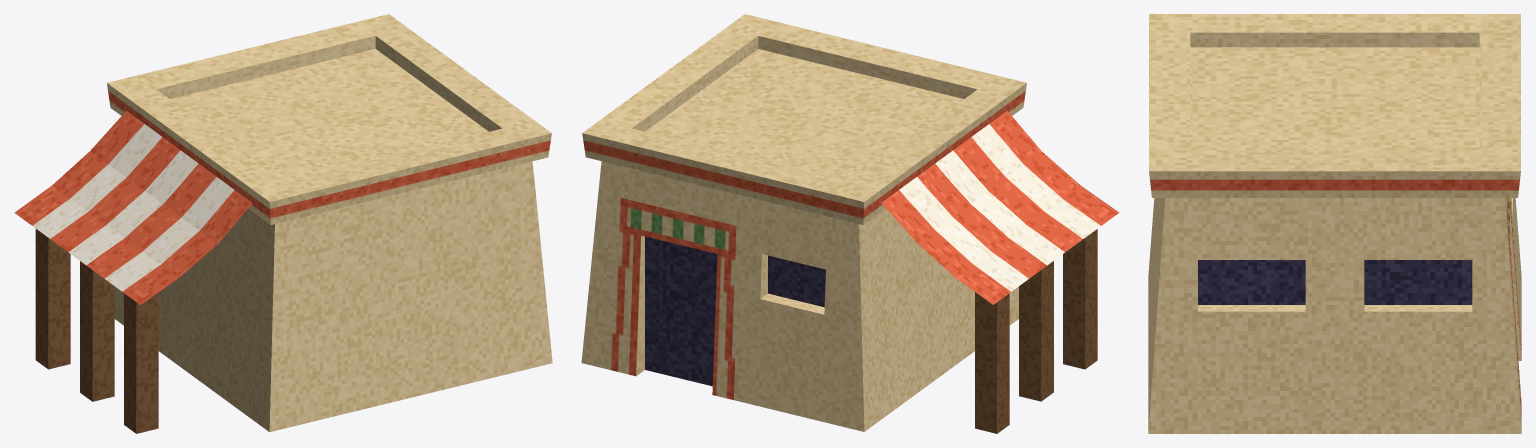
File: CasaEgiptoModeloAVer1.fbx
3 renders of one model, left to right at view 1: azimuth 30°, elevation 25°; view 2: azimuth 150°, elevation 25°; view 3: azimuth 270°, elevation 25°, orthographic. The views are drawn at different scales.
Parts seen in each view (by area): view 1: CasaModeloAVer1; view 2: CasaModeloAVer1; view 3: CasaModeloAVer1.
Part boxes in pixels (x1,y1,x2,y2): CasaModeloAVer1: (14,14,552,433); CasaModeloAVer1: (581,14,1119,433); CasaModeloAVer1: (1148,14,1521,433).
Bounding box in the file's own units: 3.6 × 2.01 × 2.59.
